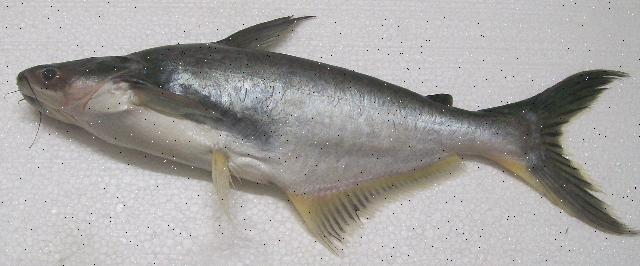Mulut: (15, 56, 50, 118)
Sirip Anal: (280, 154, 470, 266)
Sirip Dada: (112, 72, 228, 124)
Sirip Ekor: (516, 60, 638, 240)
Sirip Perut: (194, 140, 264, 234)
Sirip Punggung: (214, 10, 316, 60)
